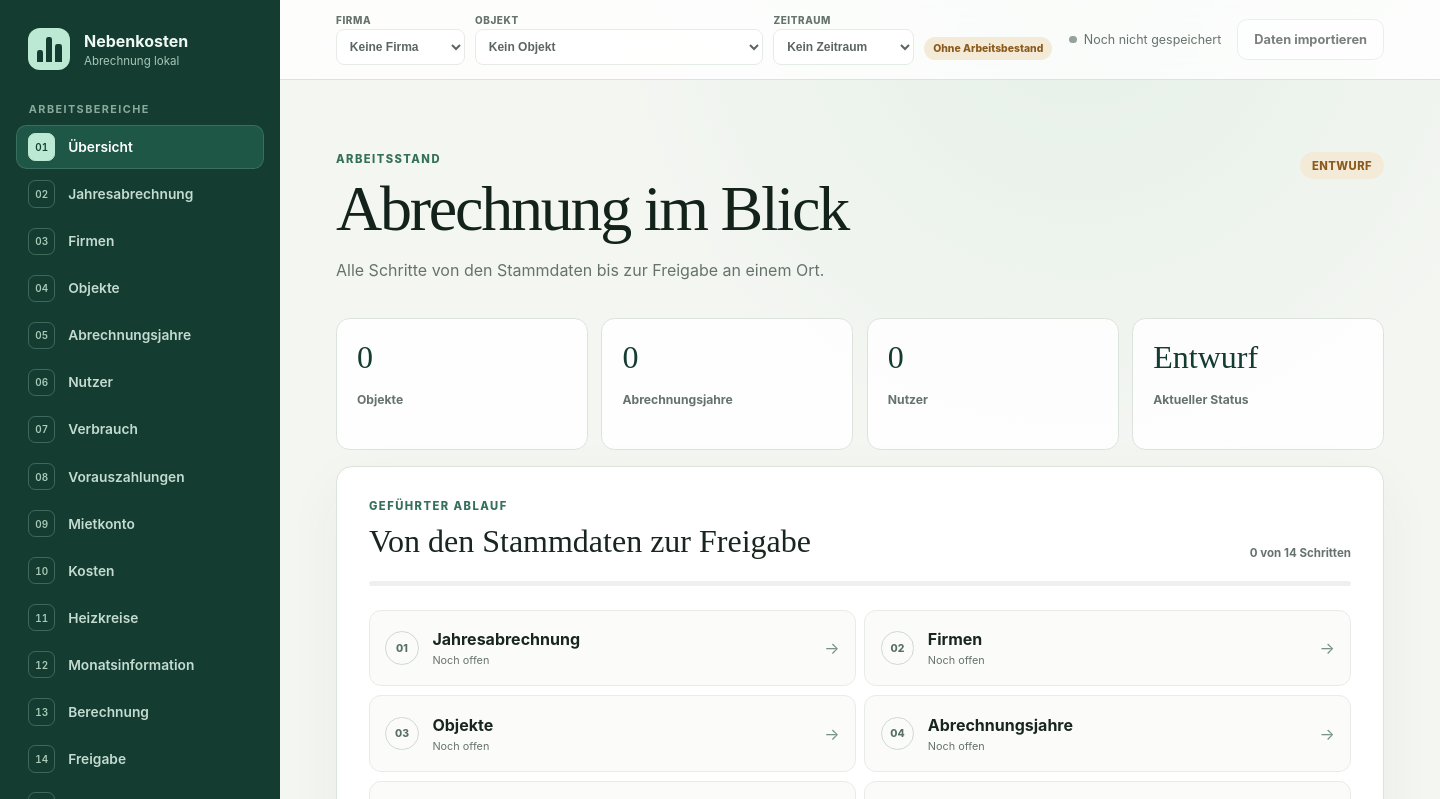
Test: App › uses hash navigation and follows browser navigation events
Click the link "10 Kosten" at (71, 571), box [28, 557, 114, 584]
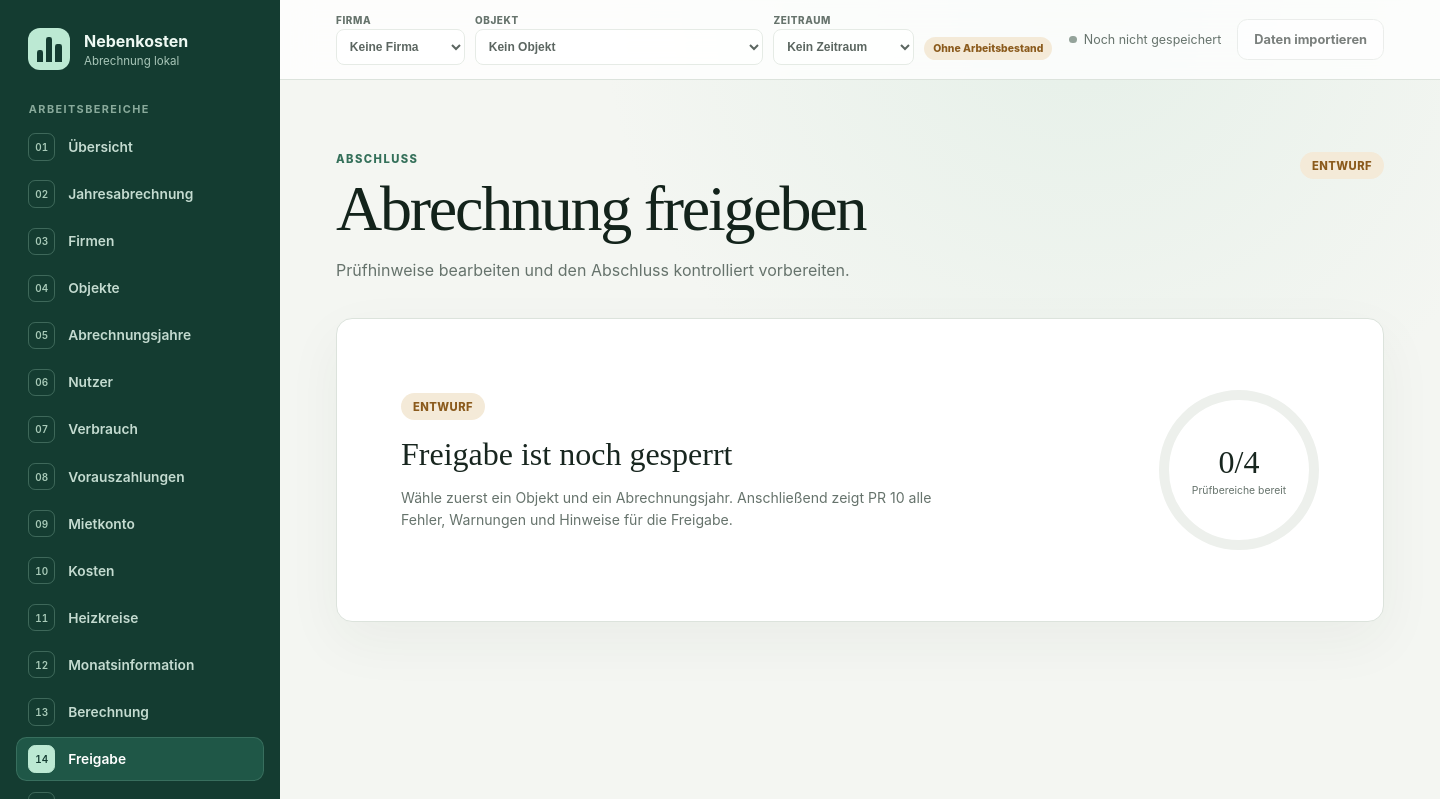
Check: the heading "Abrechnung freigeben" is shown, box [336, 176, 865, 242]
